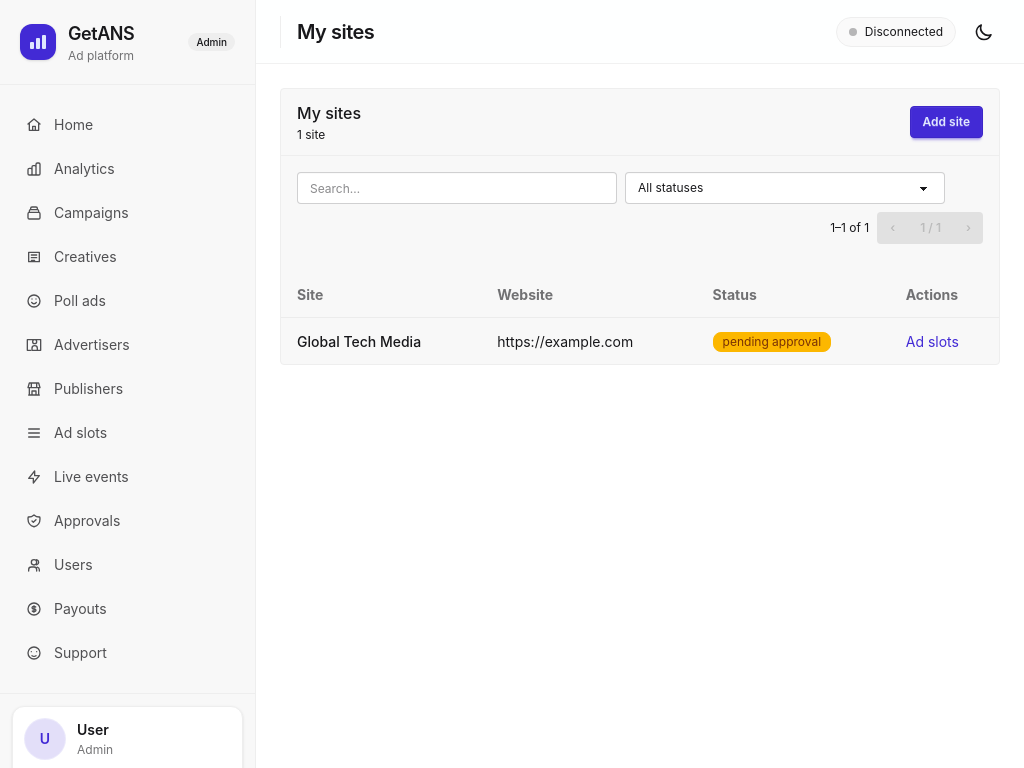
Scenario: create publisher modal › shows the API error and keeps the modal open
Expected: the text "Global Tech Media" is shown, [281, 318, 481, 364]
Click the button "Add site": [946, 122] box [910, 106, 983, 138]
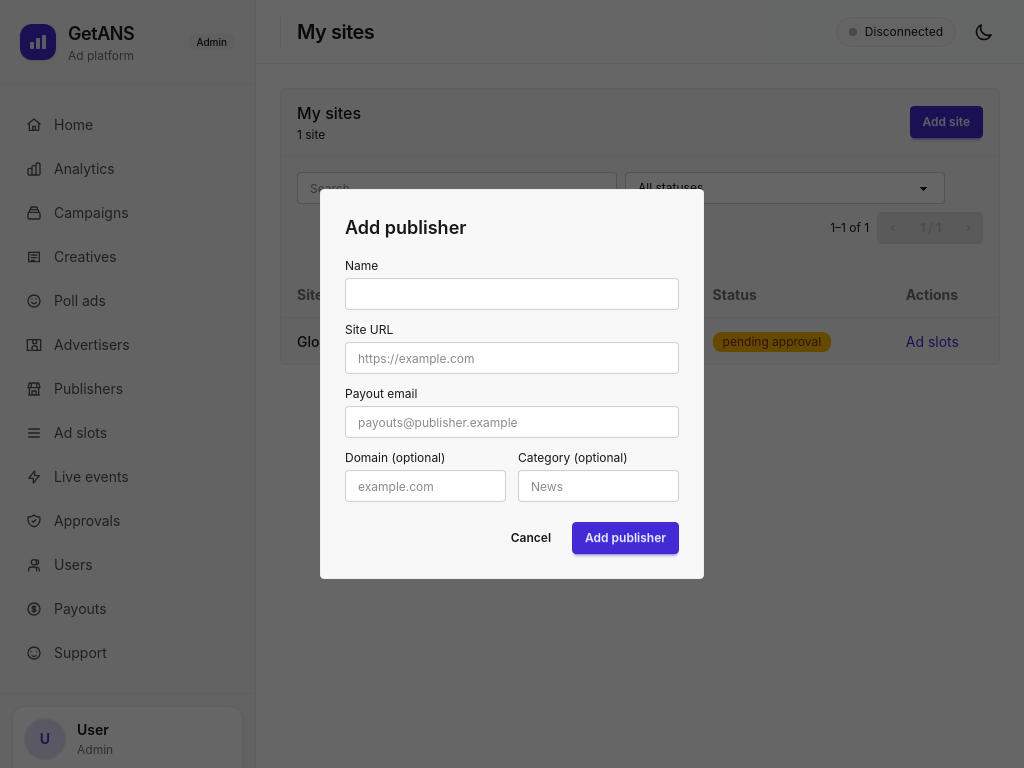
In the field labelled "Name": [512, 294] box [345, 278, 679, 310], type "New Site"
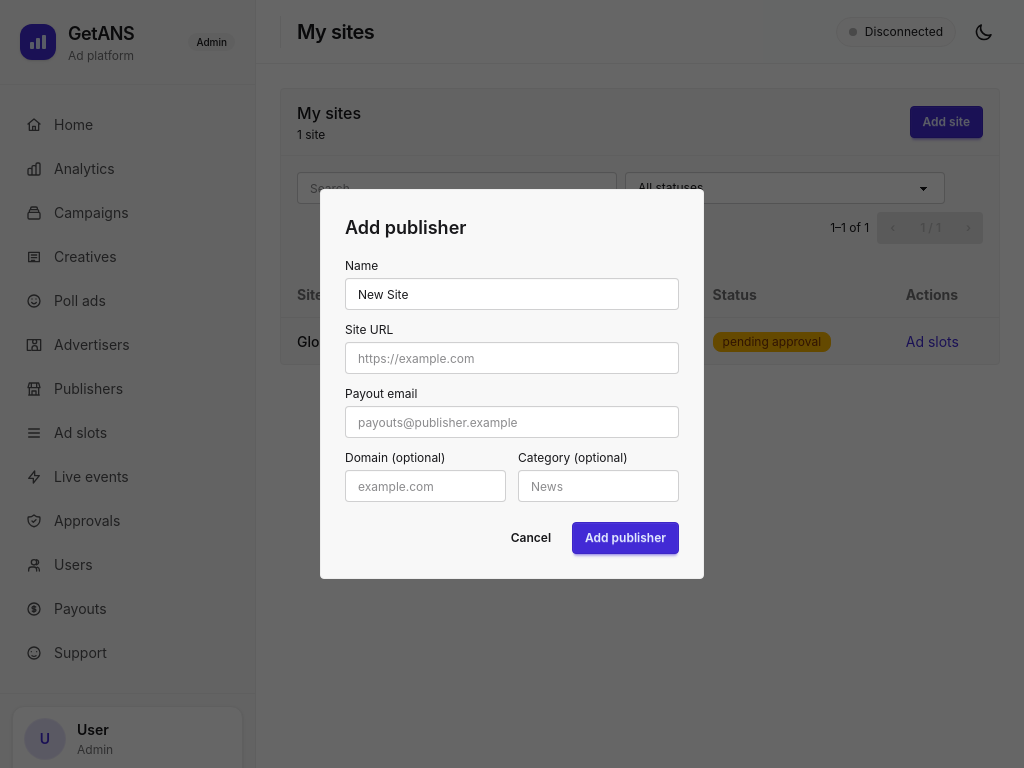
In the field labelled "Site URL": [512, 358] box [345, 342, 679, 374], type "https://new.example.com"
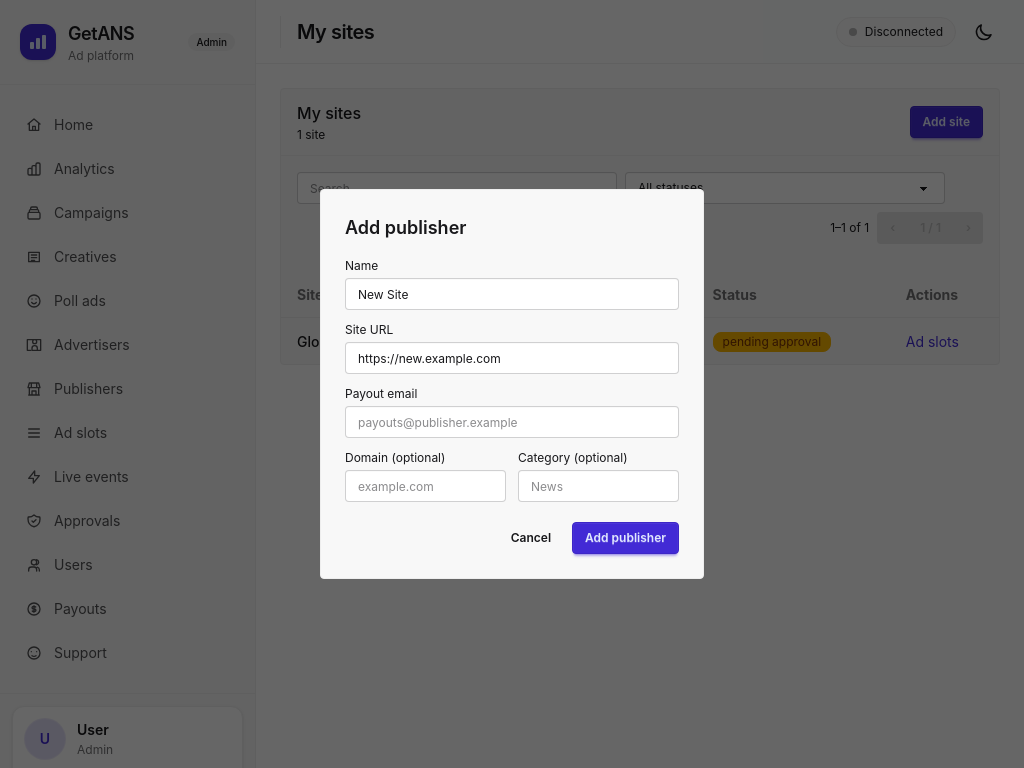
In the field labelled "Payout email": [512, 422] box [345, 406, 679, 438], type "money@new.example.com"
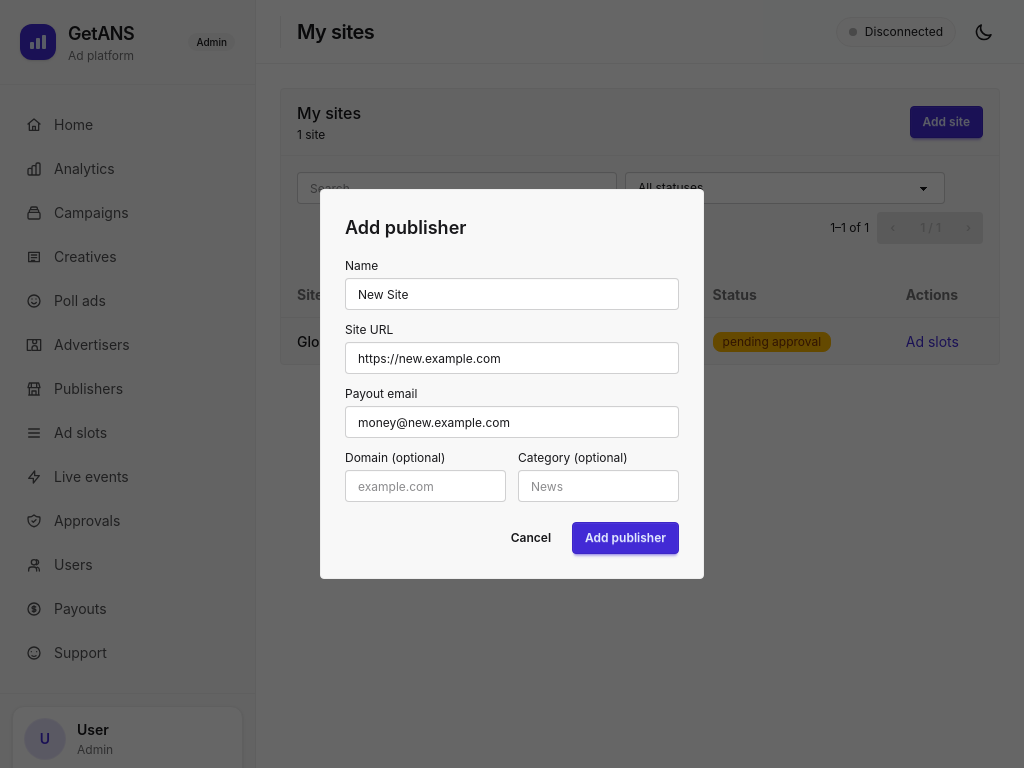
Submit the form named "Add publisher", box [345, 258, 679, 554]
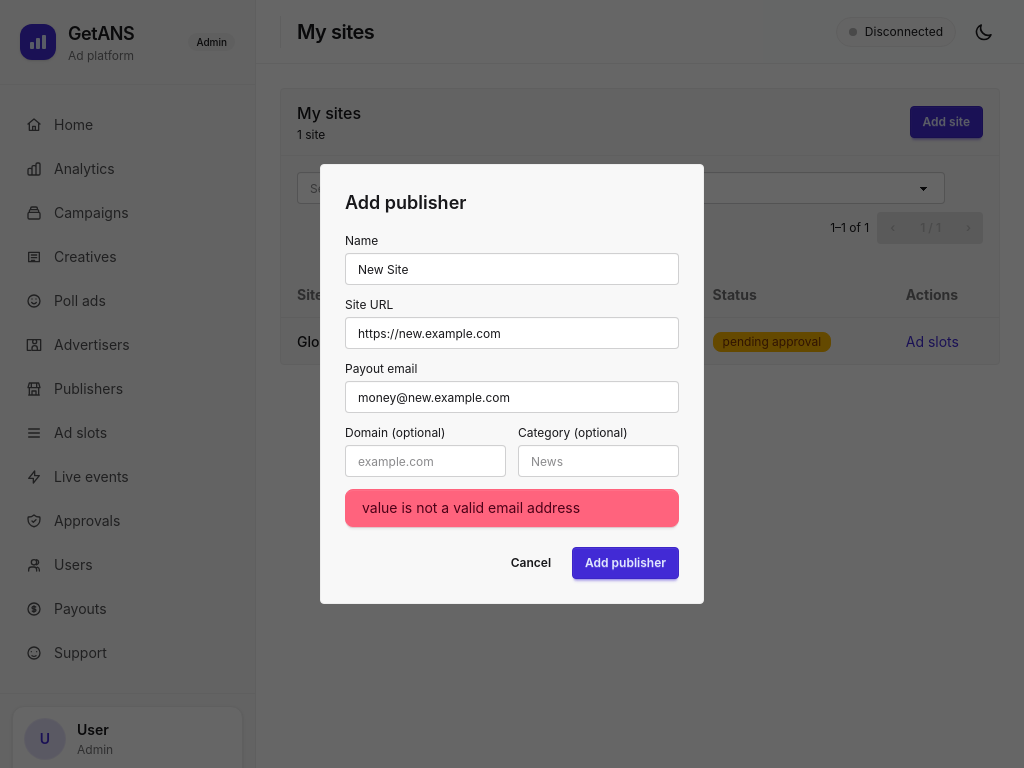
Expected: the message shows "not a valid email", [362, 499, 580, 516]
